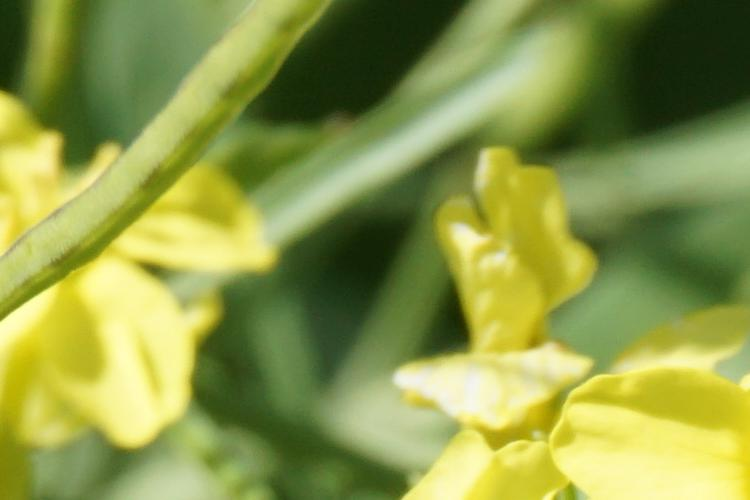yellow: (398, 197, 744, 486), (8, 114, 261, 428)
